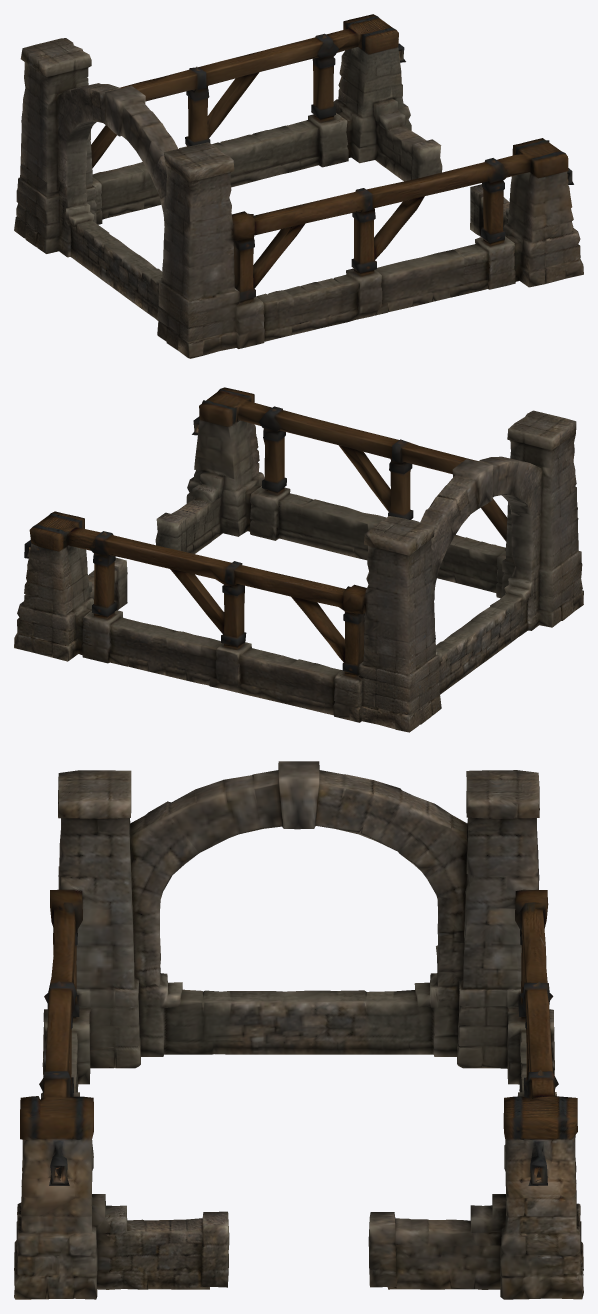
File: textures.glb
3 renders of one model, top to bottom at view 1: azimuth 30°, elevation 25°; view 2: azimuth 150°, elevation 25°; view 3: azimuth 270°, elevation 25°, orthographic. The views are drawn at different scales.
Parts seen in each view (by area): view 1: tripo_node_2508c35d-a3c7-4a6a-9280-24621f200a97; view 2: tripo_node_2508c35d-a3c7-4a6a-9280-24621f200a97; view 3: tripo_node_2508c35d-a3c7-4a6a-9280-24621f200a97.
Part boxes in pixels (x1,y1,x2,y2): tripo_node_2508c35d-a3c7-4a6a-9280-24621f200a97: (14,14,583,358); tripo_node_2508c35d-a3c7-4a6a-9280-24621f200a97: (14,387,583,732); tripo_node_2508c35d-a3c7-4a6a-9280-24621f200a97: (14,761,583,1299).
Bounding box in the file's own units: 1 × 0.4915 × 0.8962.
1 material, 1 textured.
